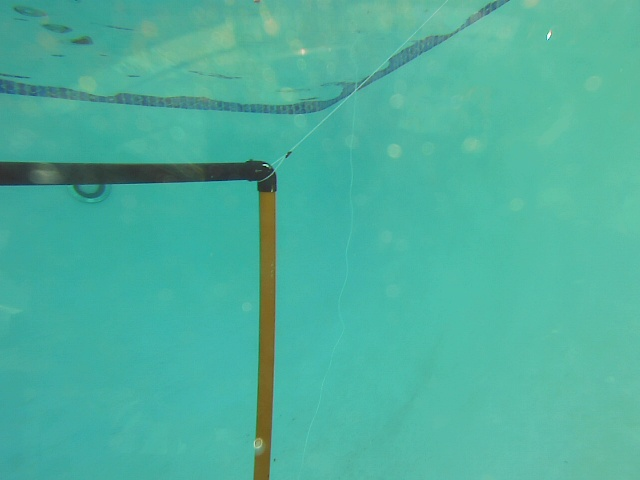Gate: (248, 182, 281, 480)
